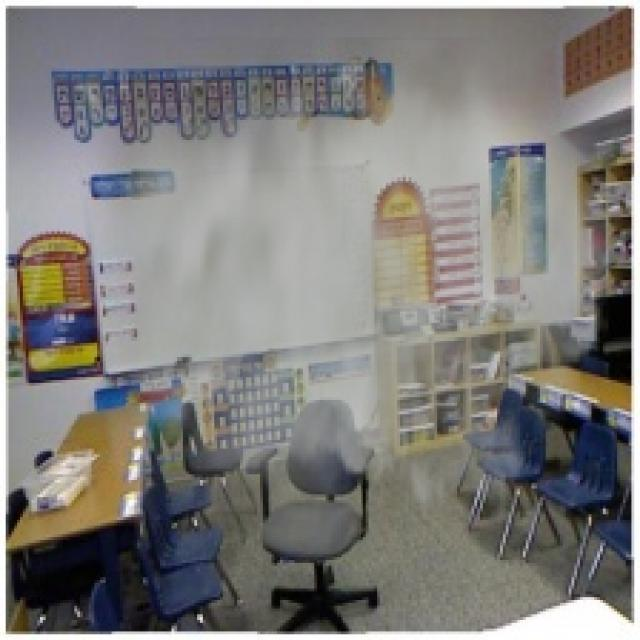Smoke: (86, 37, 608, 572)
